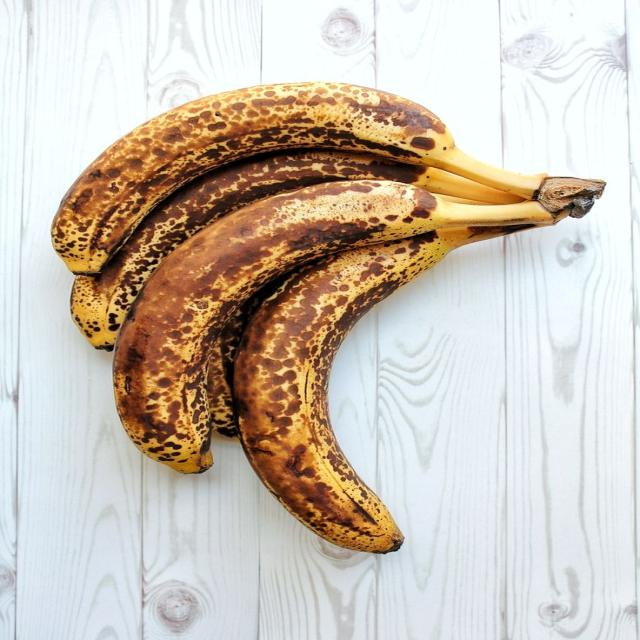unpeal banana: (114, 181, 570, 473), (234, 226, 527, 553), (52, 83, 546, 273), (71, 150, 519, 348)
